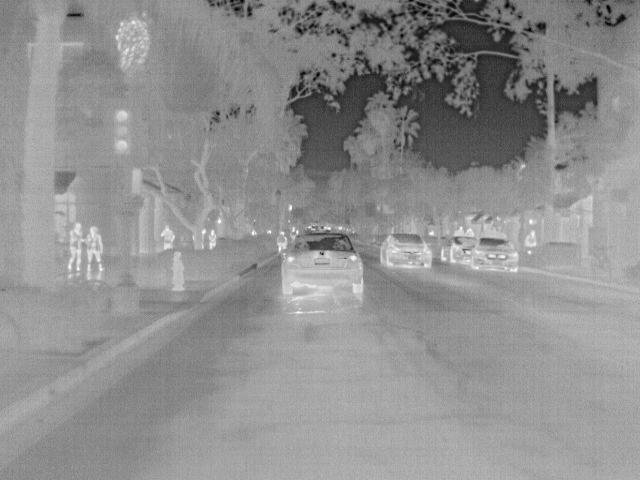car: (279, 231, 367, 296), (377, 230, 435, 267), (470, 236, 524, 274), (447, 236, 479, 264)
person: (65, 220, 86, 273), (85, 224, 106, 267), (159, 223, 177, 251), (522, 229, 539, 249), (275, 231, 289, 255), (205, 229, 218, 250)
